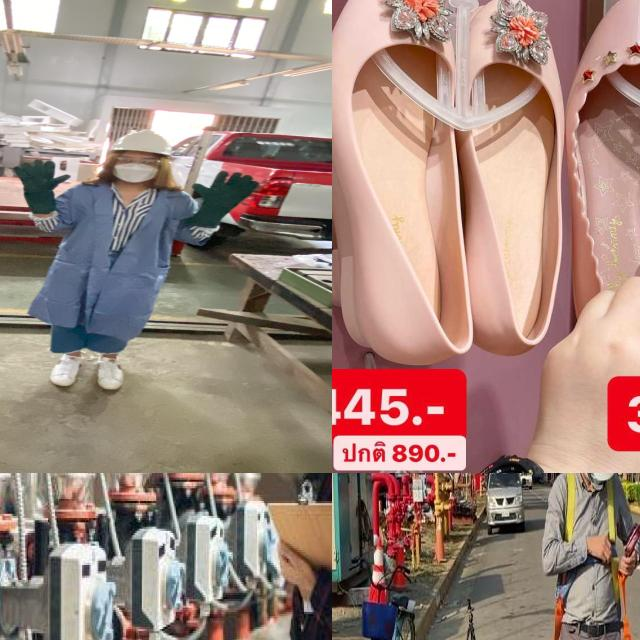Harness: (610, 558, 632, 640), (552, 593, 565, 640)
Sandals: (332, 0, 572, 389), (548, 0, 640, 371)
face_mask: (112, 154, 164, 182)
glasses: (114, 156, 164, 166)
hand_glove: (185, 169, 262, 211), (11, 159, 74, 193)
hand_noglove: (271, 541, 324, 599)
head_helmet: (101, 127, 174, 155)
person: (9, 128, 266, 397)
shoes: (90, 354, 136, 394), (42, 350, 87, 390)
